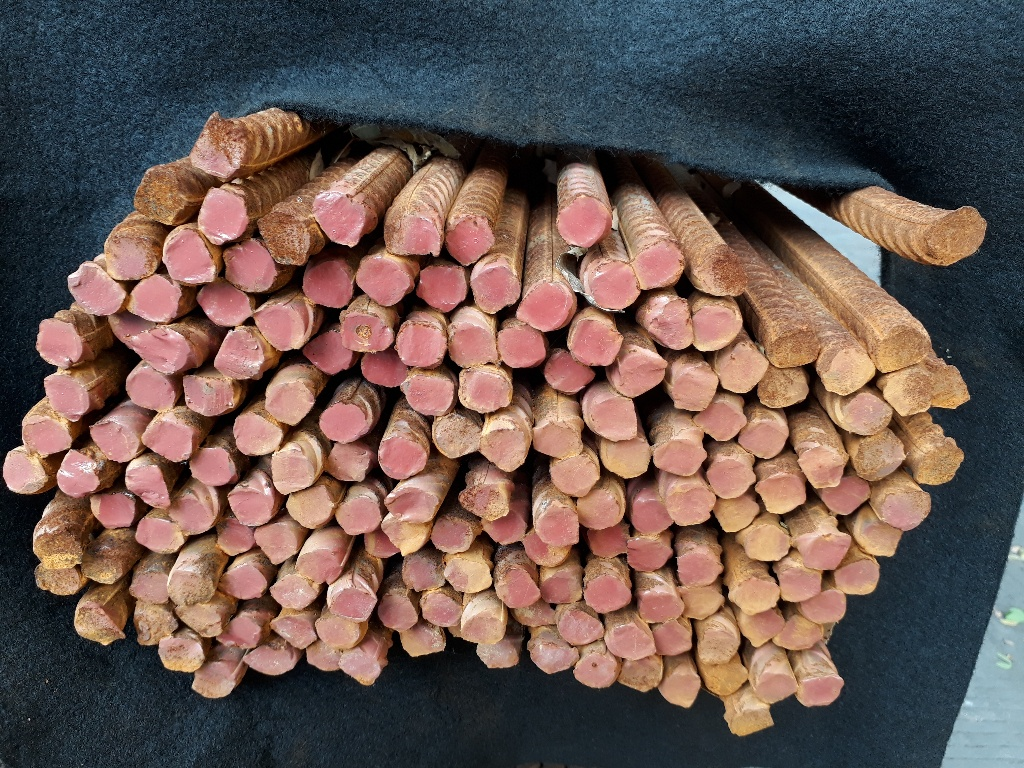dipstick: (189, 113, 243, 179), (816, 342, 875, 395), (221, 238, 278, 292), (311, 189, 363, 248), (66, 266, 127, 316), (872, 323, 931, 374), (933, 206, 987, 261), (641, 297, 694, 353), (692, 246, 750, 297), (354, 255, 408, 309), (259, 209, 309, 267), (227, 468, 277, 526), (585, 386, 639, 439), (196, 190, 248, 245), (163, 231, 215, 286), (515, 278, 571, 329), (609, 346, 666, 396), (127, 273, 182, 324), (586, 259, 638, 312), (852, 430, 906, 481), (568, 315, 622, 365), (715, 343, 770, 392), (136, 170, 184, 226), (131, 328, 190, 373), (665, 360, 716, 412), (212, 329, 265, 379), (73, 598, 126, 648), (197, 278, 252, 326), (558, 197, 609, 248), (459, 367, 513, 415), (252, 300, 303, 350), (300, 261, 353, 309), (104, 231, 152, 283), (460, 473, 512, 521), (634, 244, 686, 292), (386, 214, 441, 259), (853, 507, 903, 556), (550, 449, 601, 497), (573, 482, 625, 529), (141, 417, 195, 462), (125, 459, 172, 510), (394, 320, 446, 366), (37, 315, 82, 368), (880, 370, 933, 415), (400, 371, 455, 414), (915, 439, 966, 485), (232, 413, 285, 457), (482, 418, 526, 471), (444, 217, 492, 265), (651, 435, 707, 476), (55, 448, 100, 499), (303, 331, 354, 376), (599, 434, 651, 478), (340, 312, 394, 354), (42, 374, 89, 422), (692, 400, 747, 441), (736, 522, 791, 563), (90, 419, 139, 465), (265, 380, 315, 425), (691, 307, 741, 352), (544, 349, 594, 394), (448, 324, 502, 365), (125, 367, 174, 412), (22, 416, 72, 460), (474, 264, 518, 314), (496, 322, 546, 366), (756, 366, 808, 408), (819, 473, 871, 515), (930, 362, 971, 415), (419, 264, 466, 310), (755, 472, 809, 512), (698, 652, 748, 695), (183, 372, 234, 414), (533, 417, 585, 458), (81, 537, 128, 582), (666, 481, 713, 526), (496, 562, 540, 610), (319, 402, 368, 445), (766, 328, 820, 367), (707, 456, 757, 498), (133, 600, 178, 646), (3, 447, 47, 494), (286, 485, 333, 529), (737, 417, 786, 459), (842, 393, 892, 434), (536, 502, 581, 547), (798, 444, 843, 489), (698, 619, 741, 666), (270, 444, 312, 492), (134, 515, 184, 555), (462, 599, 506, 644), (433, 416, 481, 457), (384, 487, 437, 524), (35, 531, 84, 571), (529, 633, 578, 673), (556, 607, 606, 646), (879, 492, 930, 530), (376, 441, 428, 478), (584, 572, 632, 612), (176, 600, 226, 638), (385, 513, 430, 555), (322, 444, 370, 483), (637, 586, 685, 625), (679, 549, 727, 588), (713, 495, 763, 532), (655, 665, 699, 707), (336, 496, 381, 537), (739, 607, 785, 647), (834, 558, 880, 598), (242, 642, 296, 676), (774, 614, 822, 652), (803, 531, 851, 569), (358, 352, 410, 387), (169, 494, 211, 537), (629, 492, 673, 533), (480, 505, 526, 544), (445, 556, 492, 594), (215, 565, 266, 600), (624, 533, 672, 570), (166, 571, 215, 607), (619, 653, 663, 693), (729, 578, 779, 613), (524, 527, 570, 565), (375, 591, 418, 631), (538, 567, 582, 606), (728, 696, 772, 735), (160, 633, 205, 671), (574, 652, 622, 687), (189, 448, 233, 486), (420, 589, 464, 627), (270, 574, 315, 611), (755, 667, 800, 704), (89, 493, 135, 529), (254, 525, 296, 564), (32, 562, 83, 594), (652, 618, 696, 655), (216, 517, 257, 556), (780, 564, 821, 603), (609, 624, 654, 659), (432, 515, 474, 552), (800, 589, 847, 622), (338, 649, 381, 685), (402, 552, 445, 588), (586, 522, 629, 558), (190, 663, 234, 698), (269, 616, 317, 648), (677, 585, 724, 617), (401, 621, 446, 654), (315, 615, 361, 647), (108, 310, 152, 343), (333, 585, 374, 620), (222, 612, 261, 648), (800, 677, 843, 709), (130, 570, 170, 604), (300, 550, 340, 584), (303, 641, 343, 671), (363, 525, 398, 559), (511, 602, 555, 628), (477, 641, 518, 668)
